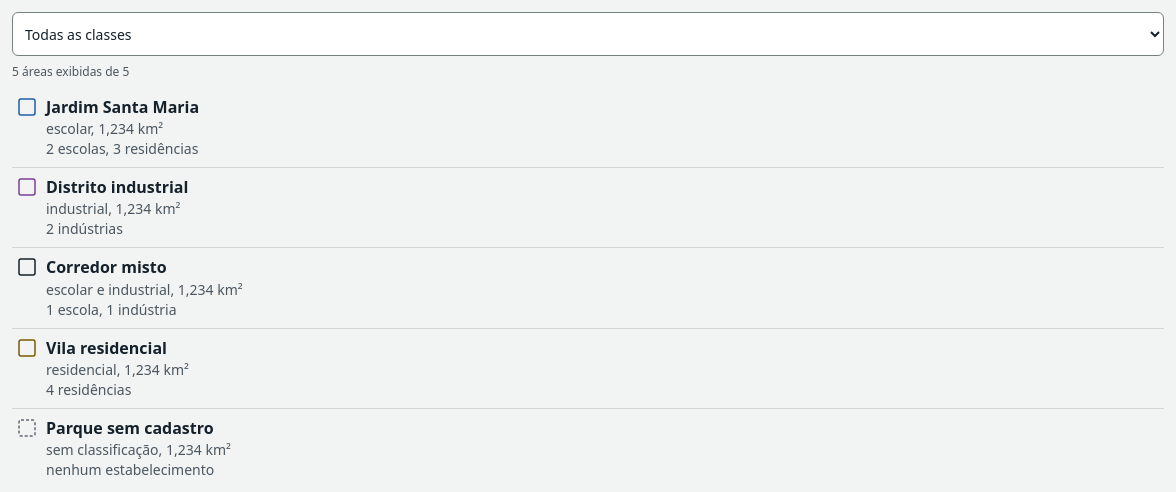
Scenario: ListaAreas › filtra por classe e avisa quantas restaram
Select "Escolar e industrial" in the dropdown named "Filtrar áreas por classe" at [588, 34], box [12,12,1164,56]
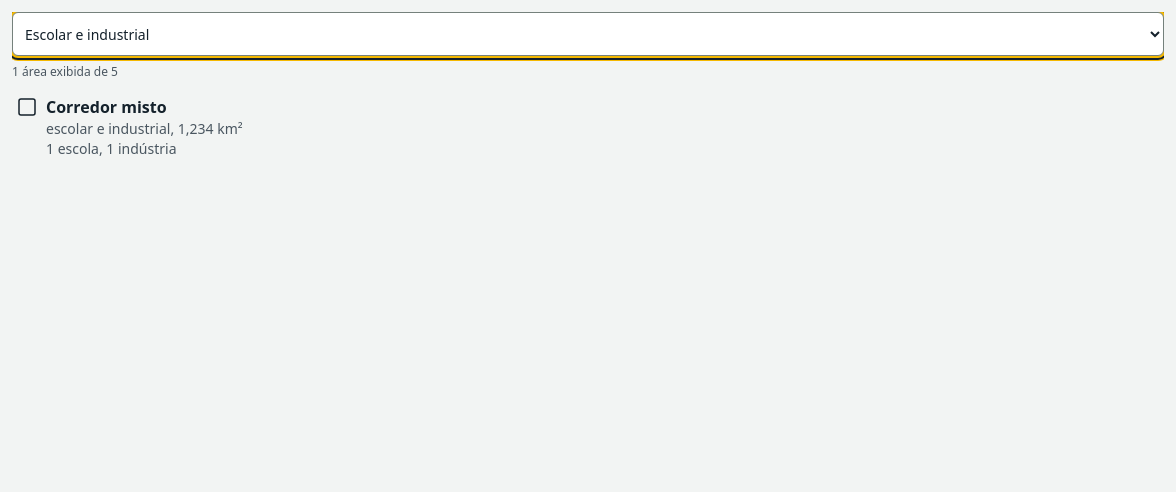
Expected: the number of buttons is 1, [12,88,1164,167]
Expected: the text "1 área exibida de 5" is shown, [12,63,118,80]
